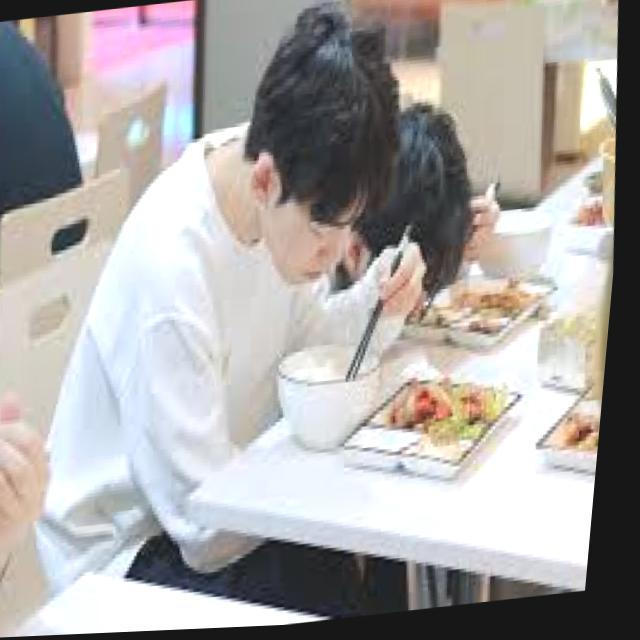eating-person: (0, 0, 473, 638)
